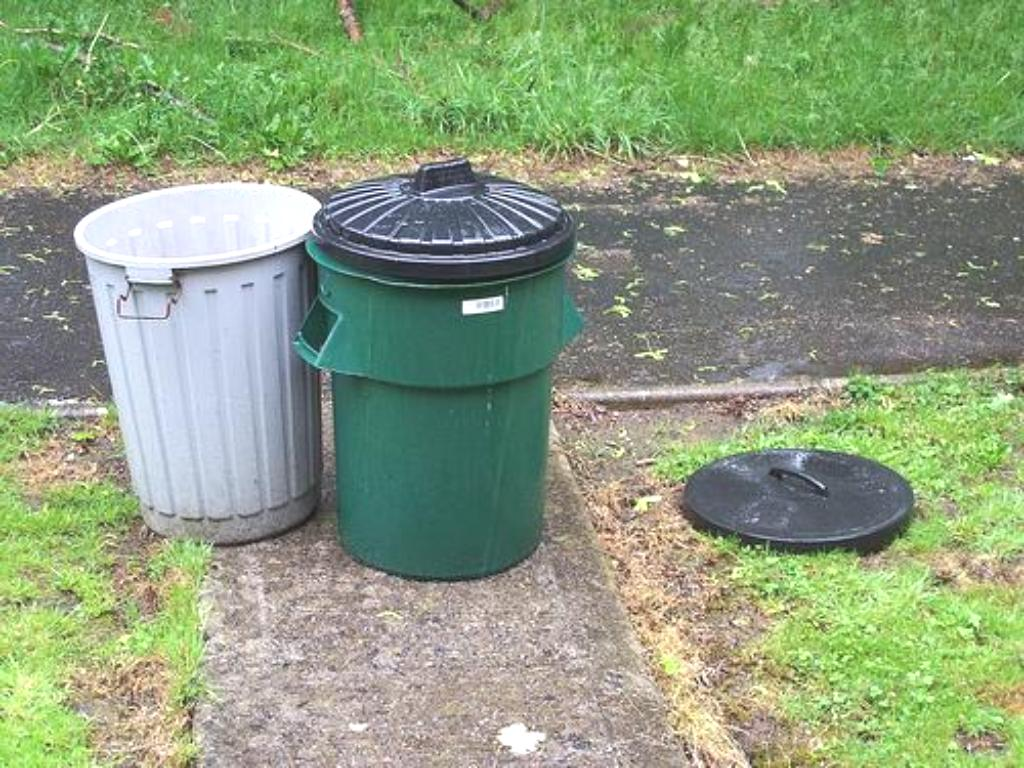dustbin: (302, 167, 561, 584), (70, 185, 321, 526)
